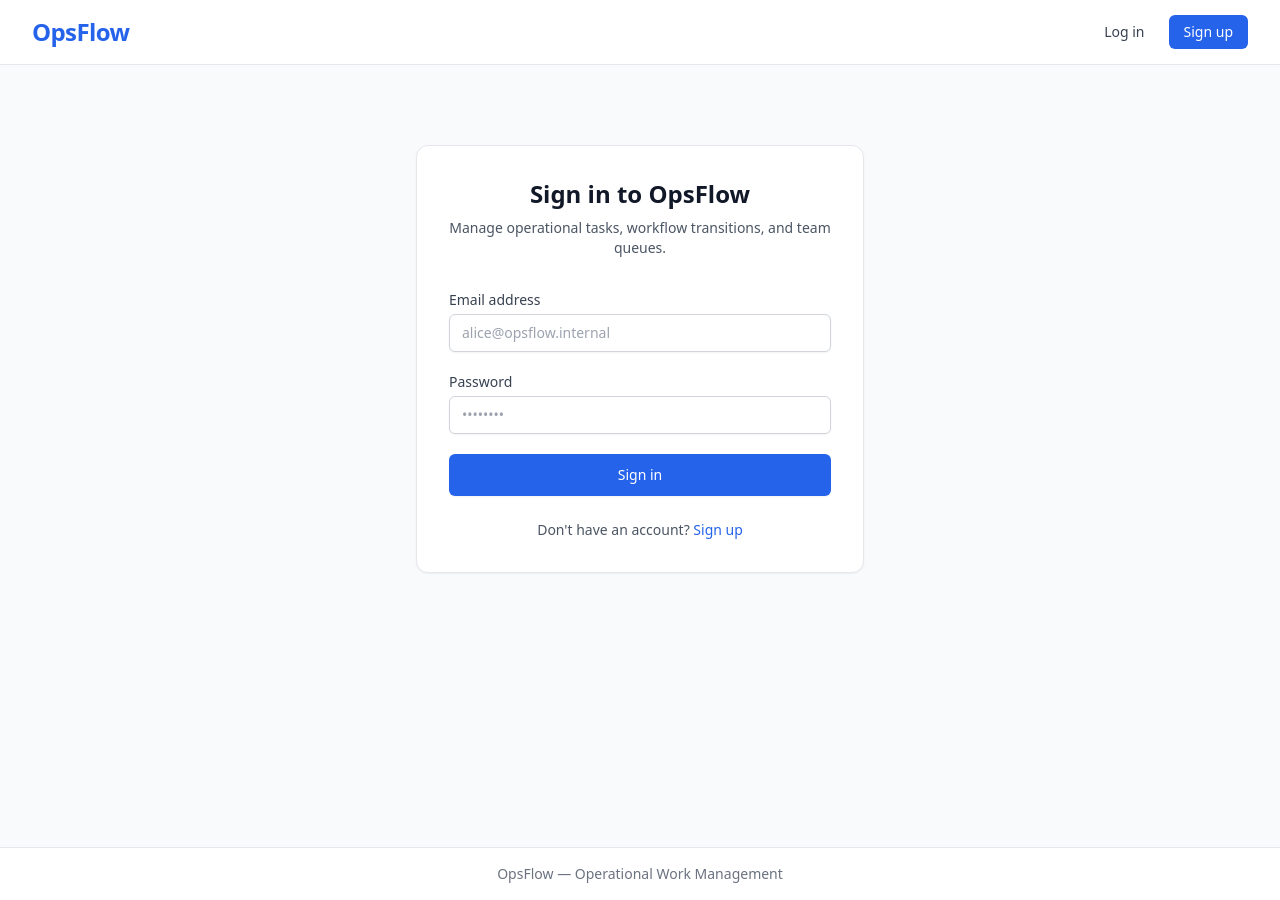
Phase 11: Frontend Integration & Correctness Flows (Scenario I) › Flow 1: Login -> Dashboard -> Team View -> Work Item List Flow
# Fill login form and submit
Type "alice@opsflow.io" into the field labelled "Email address" at (640,333), box 449,314 -> 831,352
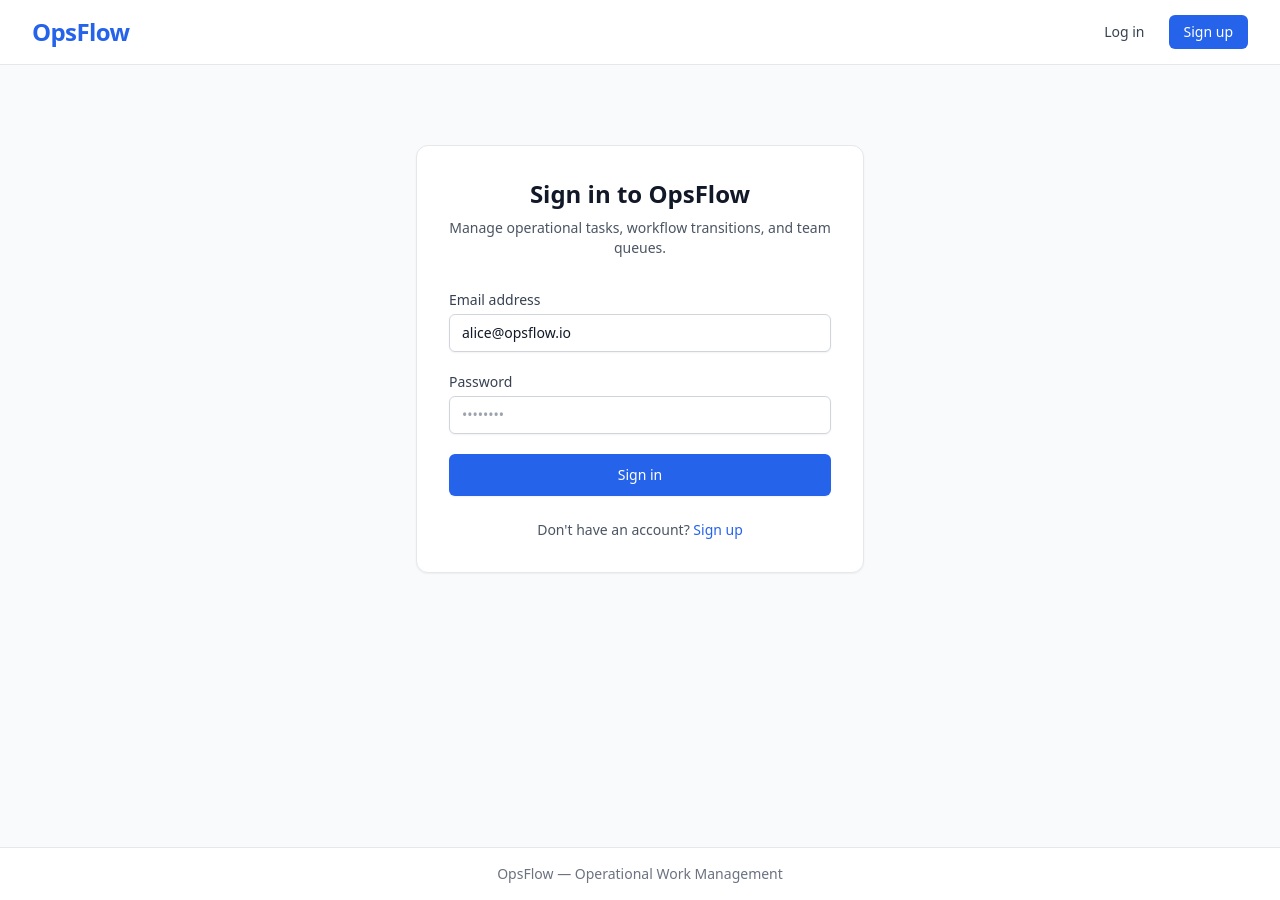
Type "password123" into the password field labelled "Password" at (640,415), box 449,396 -> 831,434
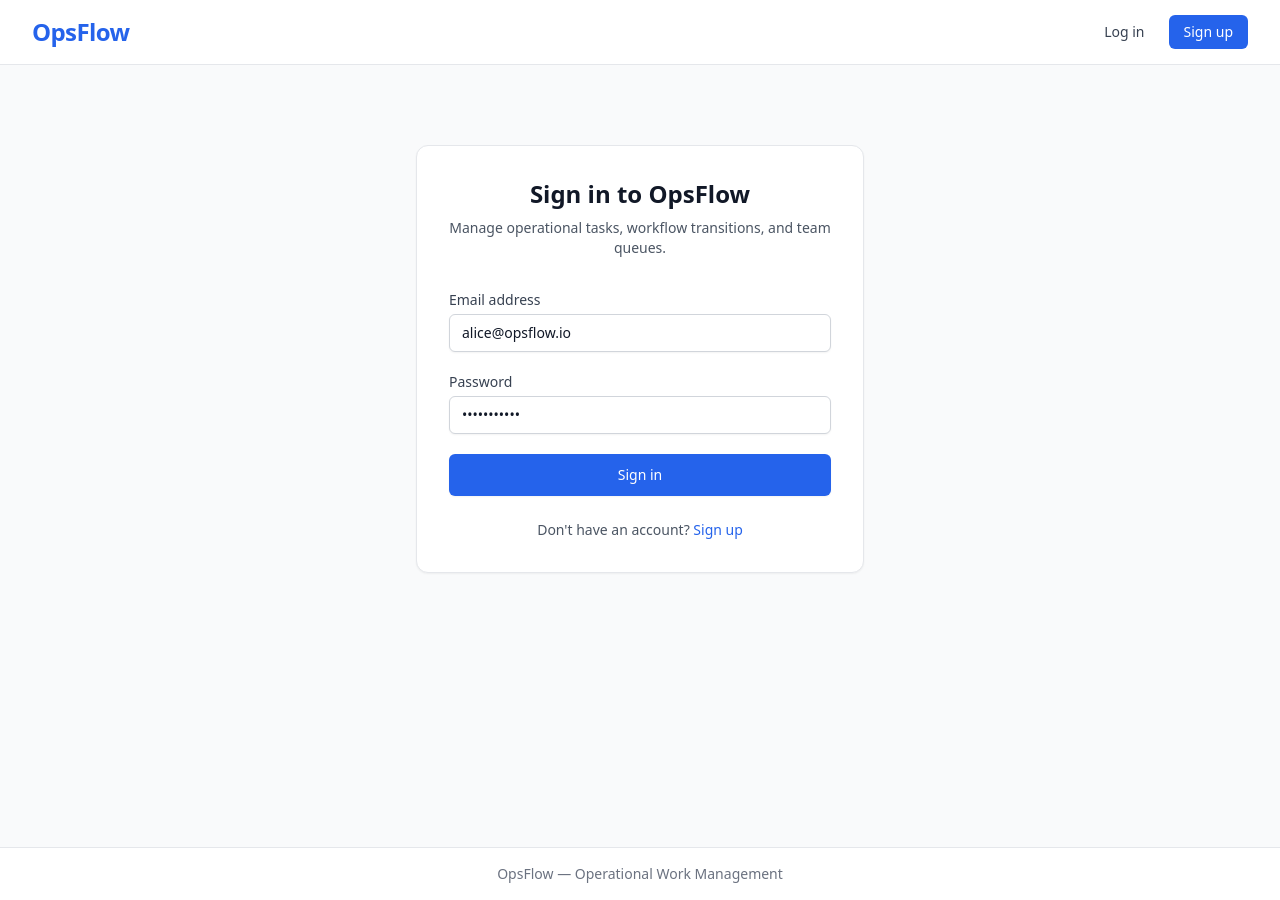
Click the button "Sign in" at (640,475), box 449,454 -> 831,496
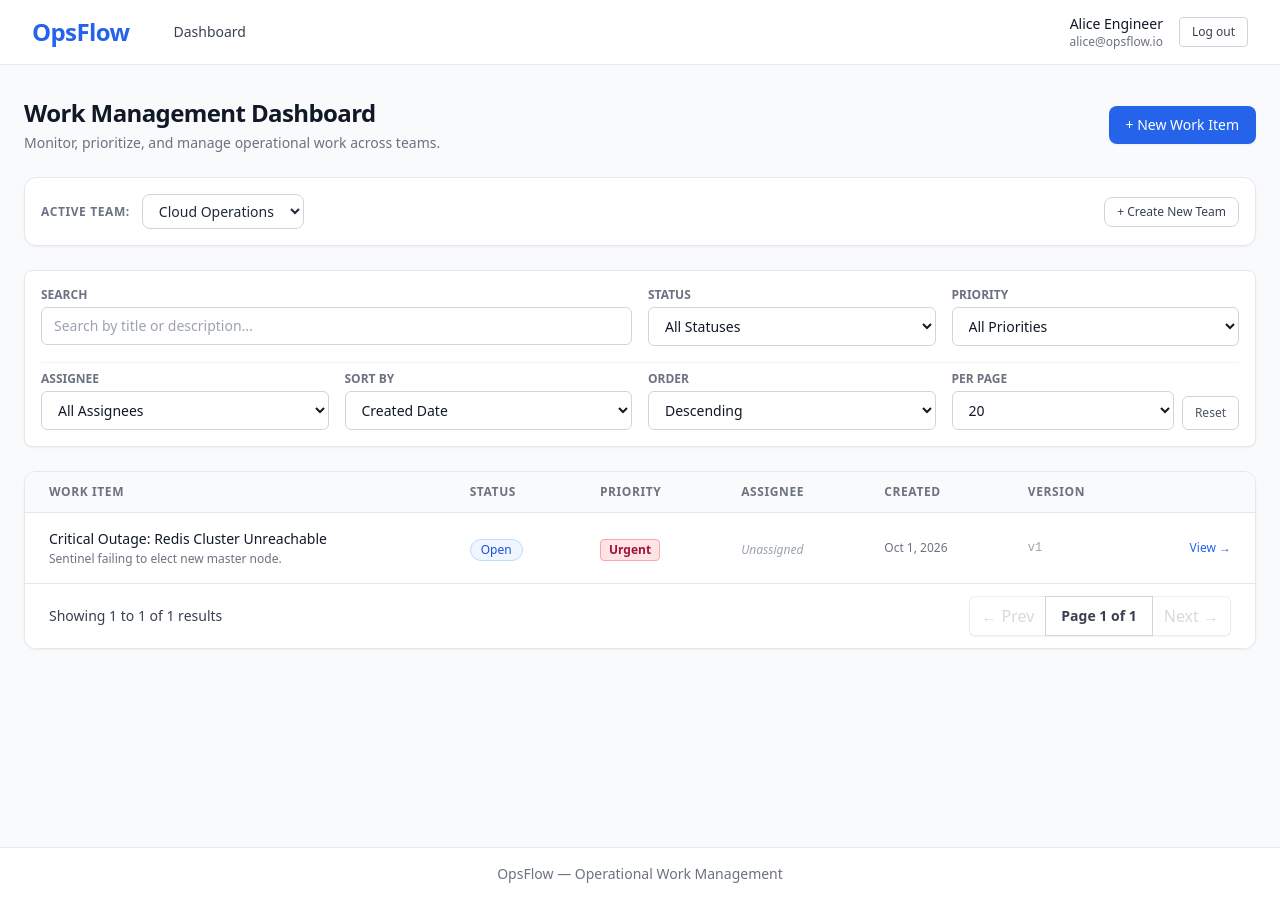
Expected: the heading "Work Management Dashboard" is shown, 24,96 -> 376,129
Expected: the text "Critical Outage: Redis Cluster Unreachable" is shown, 49,529 -> 327,548
Expected: the text "Alice Engineer" is shown, 1070,14 -> 1163,34
